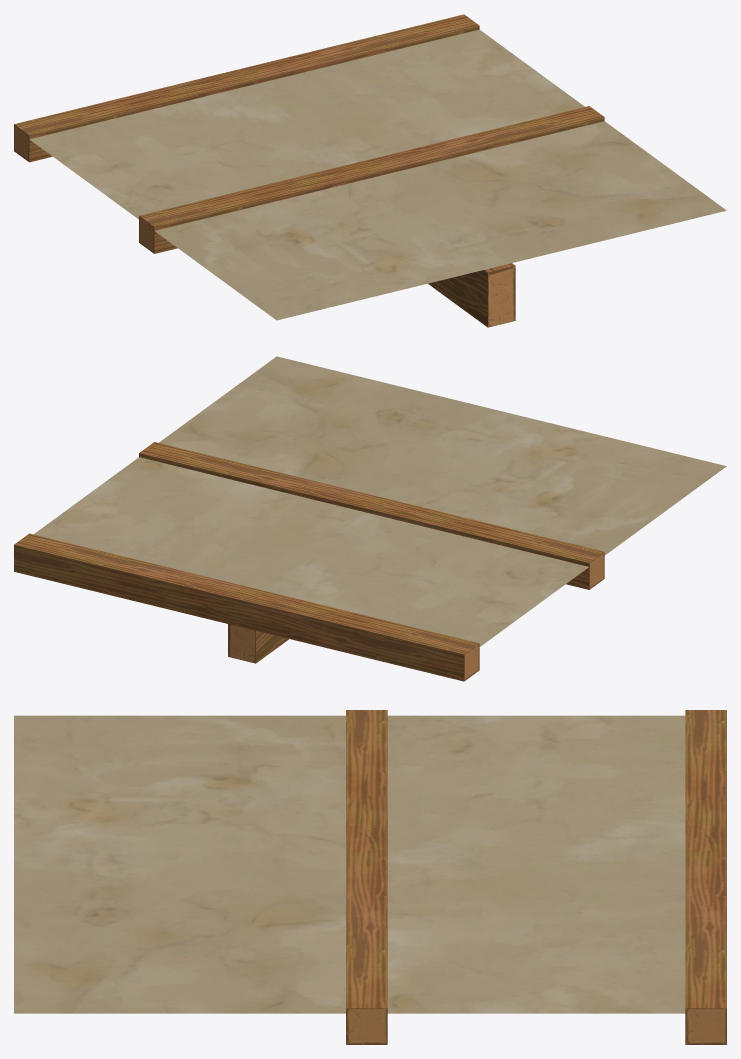
Rendered from Overhang_Roof_Plaster.gltf.
3 views of the same model, one above another, from view 1: azimuth 30°, elevation 25°; view 2: azimuth 150°, elevation 25°; view 3: azimuth 270°, elevation 25° (orthographic). The views are drawn at different scales.
Parts seen in each view (by area): view 1: Overhang_Roof_Plaster; view 2: Overhang_Roof_Plaster; view 3: Overhang_Roof_Plaster.
Boxes of the visible parts, bbox=[...] form: Overhang_Roof_Plaster: bbox=[14, 14, 726, 327]; Overhang_Roof_Plaster: bbox=[14, 356, 726, 681]; Overhang_Roof_Plaster: bbox=[14, 710, 726, 1044].
Size of the model in its own units: 2 by 0.2659 by 2.02.
2 materials, 2 textured.
